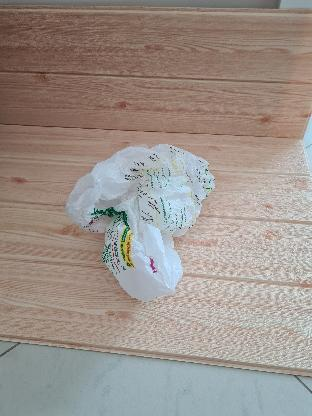Plastic Bag: (66, 143, 218, 303)
